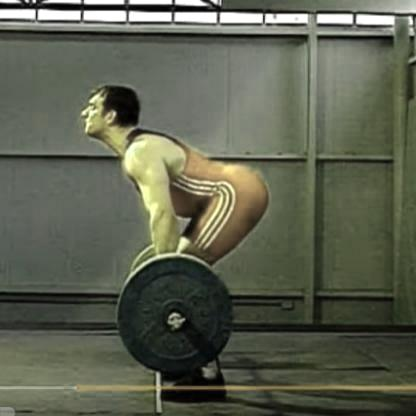Barbell: (163, 310, 187, 334)
